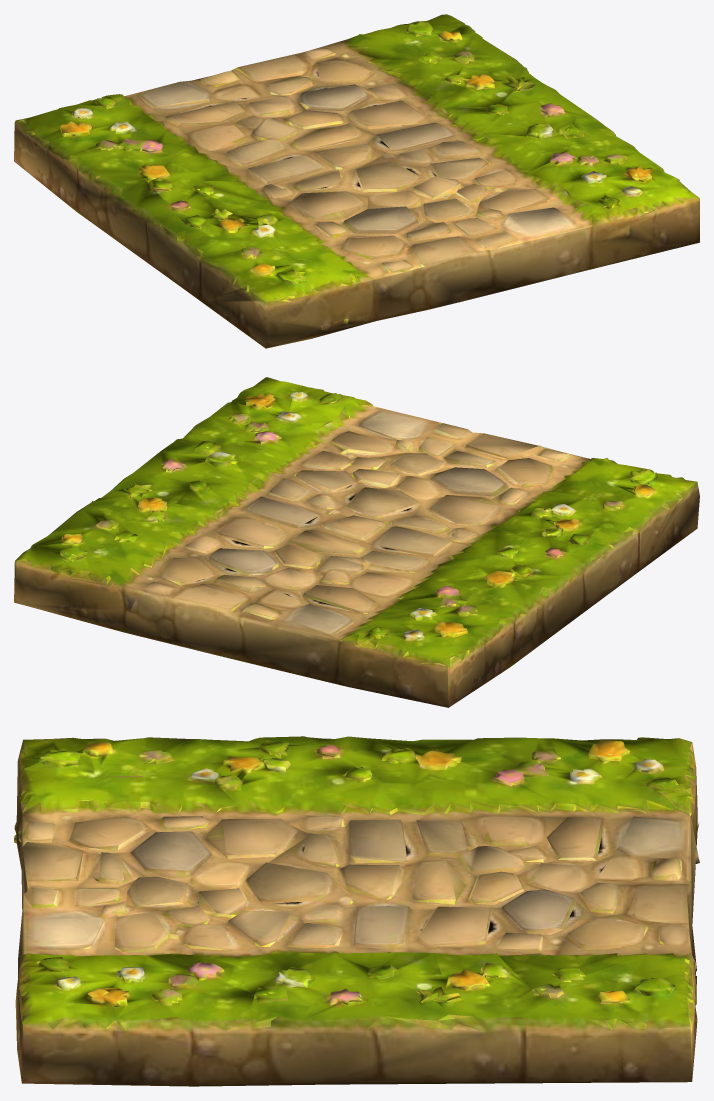
File: path-straight.glb
3 renders of one model, top to bottom at view 1: azimuth 30°, elevation 25°; view 2: azimuth 150°, elevation 25°; view 3: azimuth 270°, elevation 25°, orthographic. The views are drawn at different scales.
Visible parts, largest first — view 1: Mesh1.0; view 2: Mesh1.0; view 3: Mesh1.0.
Part boxes in pixels (x1=…): Mesh1.0: x1=14, y1=14, x2=699, y2=348; Mesh1.0: x1=14, y1=377, x2=699, y2=707; Mesh1.0: x1=14, y1=736, x2=699, y2=1086.
Size of the model in its own units: 1.88 by 0.2373 by 1.89.
1 material, 1 textured.
